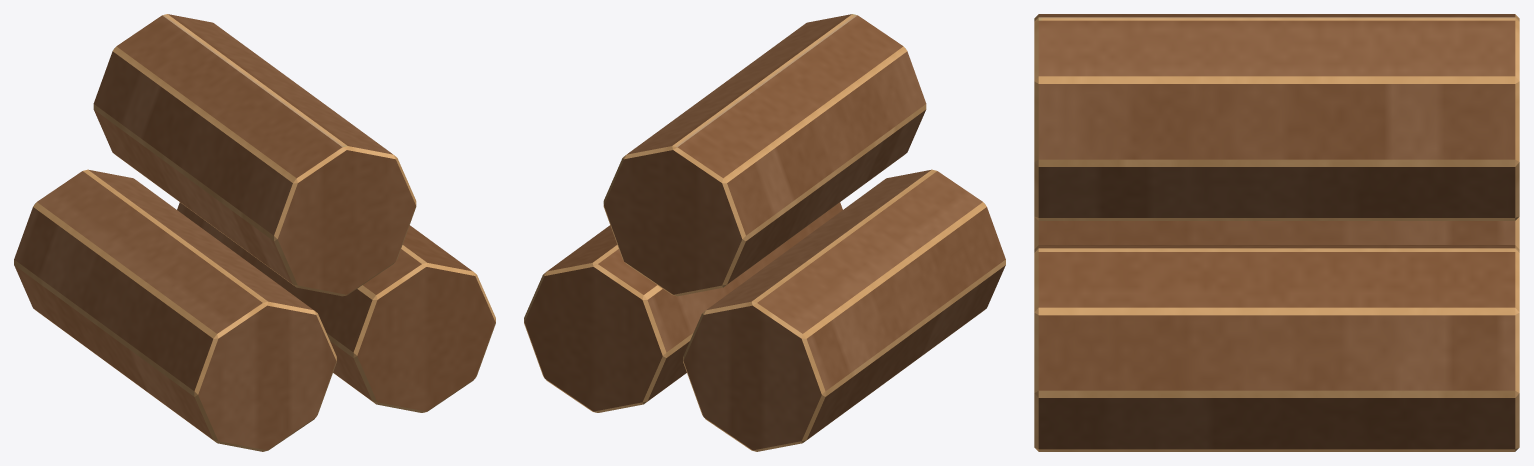
The model's file is sm_prop_log_pile.glb.
3 views of the same model, side by side, from view 1: azimuth 30°, elevation 25°; view 2: azimuth 150°, elevation 25°; view 3: azimuth 270°, elevation 25° (orthographic). The views are drawn at different scales.
Parts seen in each view (by area): view 1: sm_prop_log_pile; view 2: sm_prop_log_pile; view 3: sm_prop_log_pile.
Part boxes in pixels (left/top/right/bottom): sm_prop_log_pile: left=14, top=14, right=495, bottom=451; sm_prop_log_pile: left=524, top=14, right=1005, bottom=451; sm_prop_log_pile: left=1034, top=14, right=1519, bottom=451.
Bounding box in the file's own units: 0.4169 × 0.3769 × 0.44.
1 material, 1 textured.
